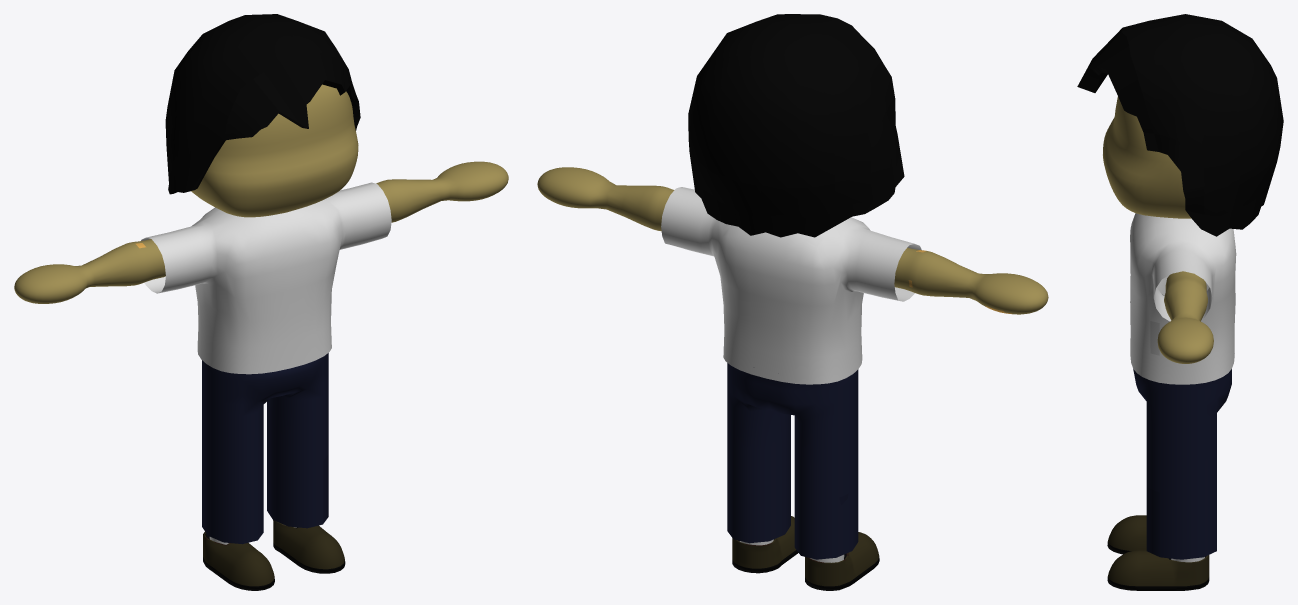
Rendered from androModel.fbx.
3 views of the same model, side by side, from view 1: azimuth 30°, elevation 25°; view 2: azimuth 150°, elevation 25°; view 3: azimuth 270°, elevation 25° (orthographic). The views are drawn at different scales.
Parts seen in each view (by area): view 1: Player1; view 2: Player1; view 3: Player1.
Boxes of the visible parts, x1,y1,x2,y2 form: Player1: [14, 14, 508, 590]; Player1: [537, 14, 1048, 590]; Player1: [1077, 14, 1283, 590].
Bounding box in the file's own units: 154 × 160 × 55.41.
